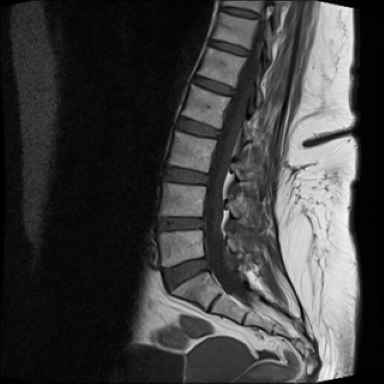Lumbar Disc Bulge (LDB): (158, 248, 220, 295), (151, 209, 214, 238)
Normal IVD: (171, 110, 225, 144), (187, 68, 238, 101), (159, 159, 215, 189), (206, 36, 253, 62)
Spinal Stenosis (SS): (193, 245, 217, 276), (191, 206, 215, 236)
